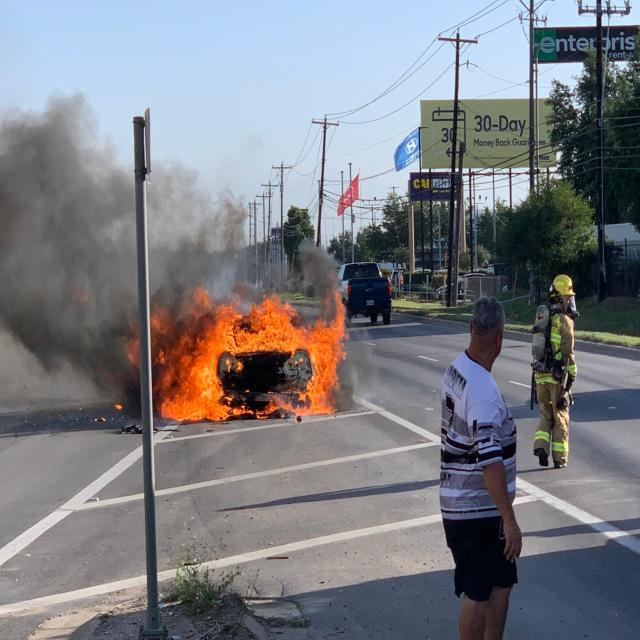Fire: (153, 292, 347, 419)
Smoke: (0, 77, 377, 413)
